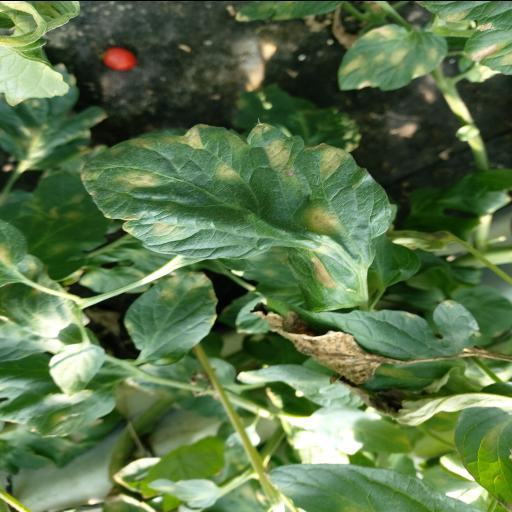Leaf Mold: (79, 121, 392, 313), (124, 270, 218, 366), (334, 22, 450, 90)
